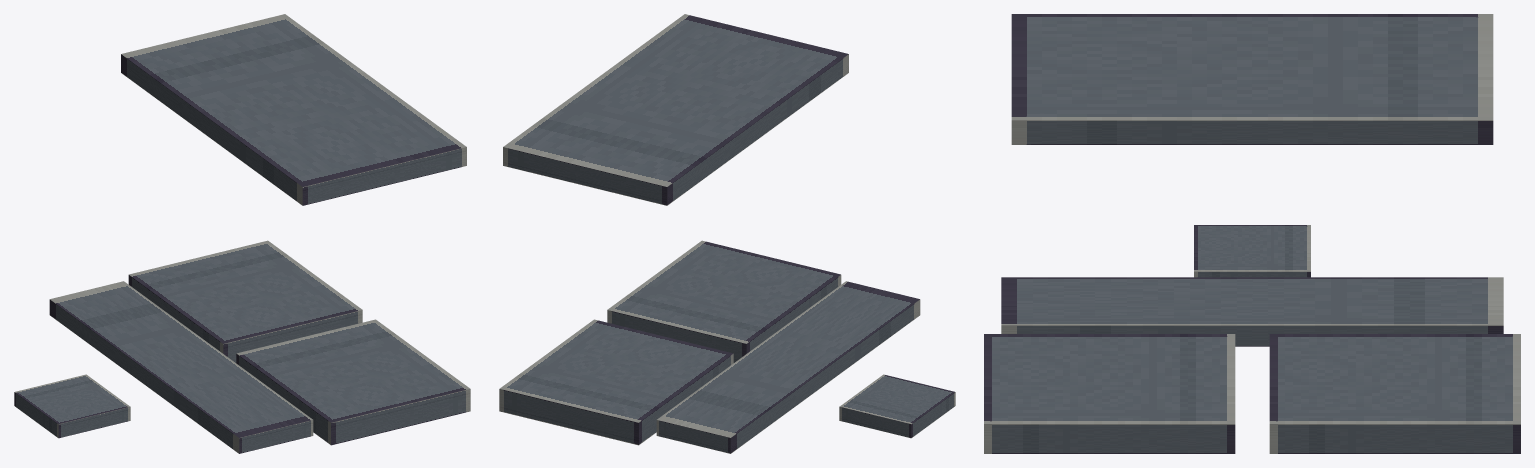
Rendered from bench_chestplate_3.obj.
3 renders of one model, left to right at view 1: azimuth 30°, elevation 25°; view 2: azimuth 150°, elevation 25°; view 3: azimuth 270°, elevation 25°, orthographic. The views are drawn at different scales.
Parts seen in each view (by area): view 1: geometry; view 2: geometry; view 3: geometry.
Part boxes in pixels (x1,y1,x2,y2): geometry: (14, 14, 470, 453); geometry: (499, 14, 955, 453); geometry: (984, 14, 1520, 453).
Bounding box in the file's own units: 0.3432 × 0.25 × 0.3545.
